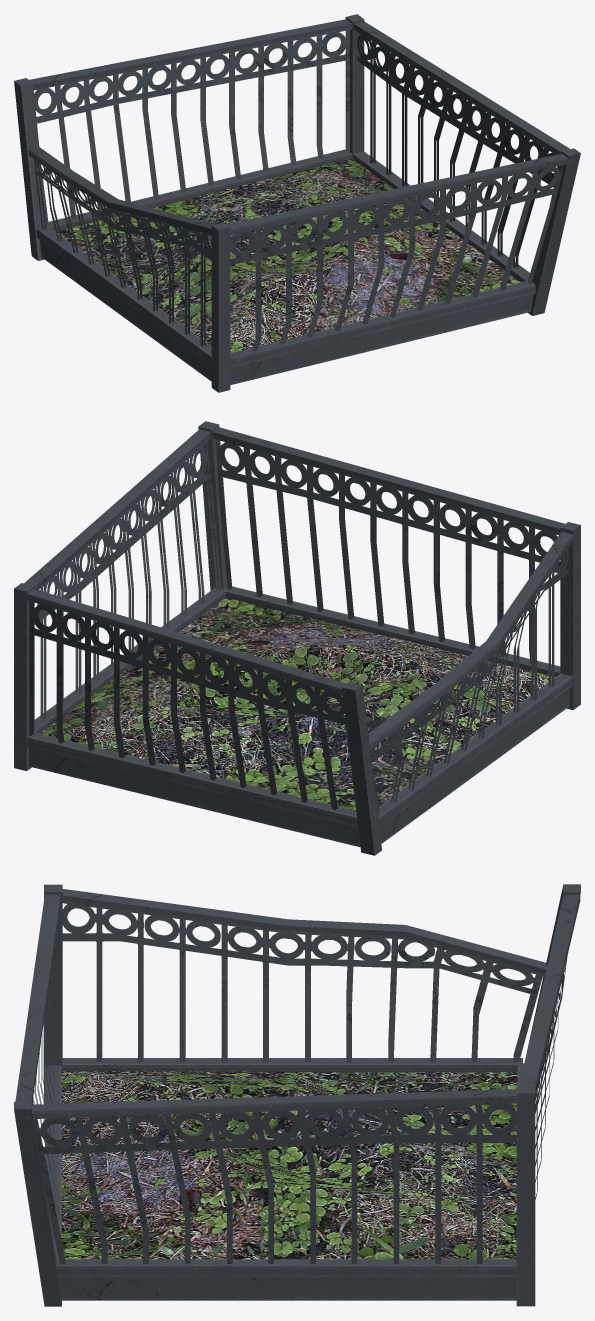
File: Flowerbed_05.fbx
3 views of the same model, one above another, from view 1: azimuth 30°, elevation 25°; view 2: azimuth 150°, elevation 25°; view 3: azimuth 270°, elevation 25° (orthographic). The views are drawn at different scales.
Parts seen in each view (by area): view 1: Flowerbed_05; view 2: Flowerbed_05; view 3: Flowerbed_05.
Part boxes in pixels (x1=…): Flowerbed_05: x1=14, y1=14, x2=580, y2=392; Flowerbed_05: x1=14, y1=421, x2=580, y2=855; Flowerbed_05: x1=14, y1=884, x2=580, y2=1306.
Bounding box in the file's own units: 92.35 × 38.84 × 93.61.
